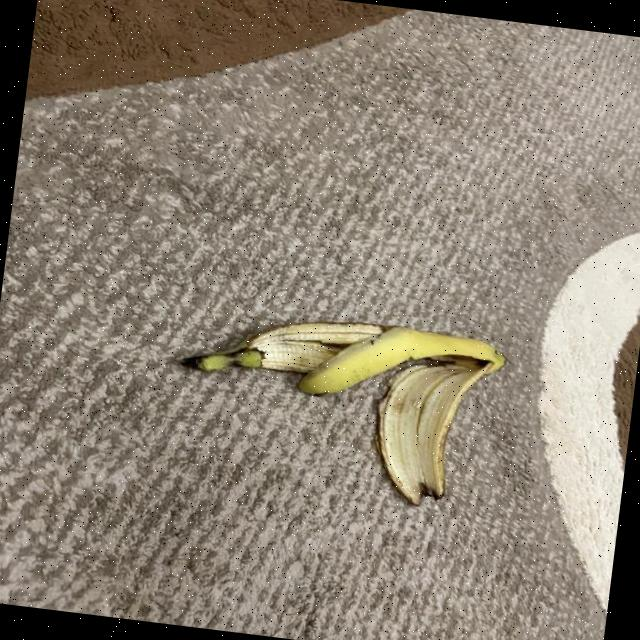banana-peel: (165, 296, 509, 514), (365, 341, 504, 514), (294, 313, 507, 418), (178, 298, 384, 394)
